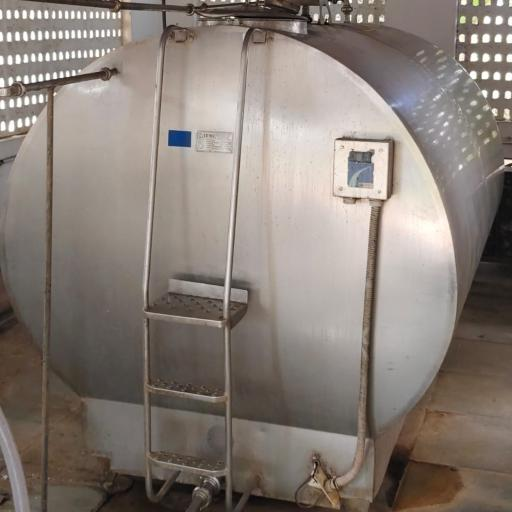silo: (0, 5, 507, 509)
